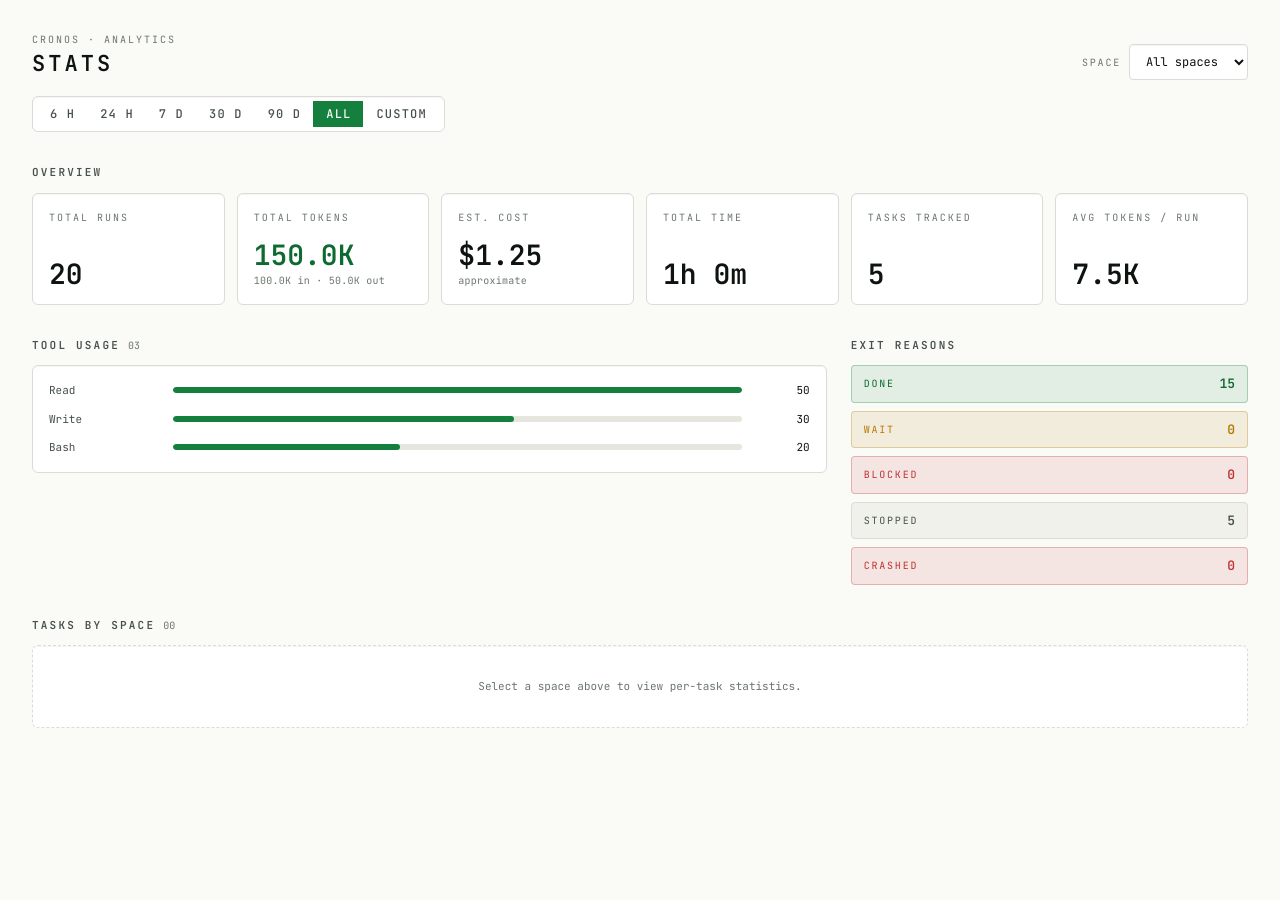
Test: StatsPage › shows empty-state message when space has no task stats
Select "My Space" in the dropdown at (1188,62), box [1129, 44, 1248, 80]
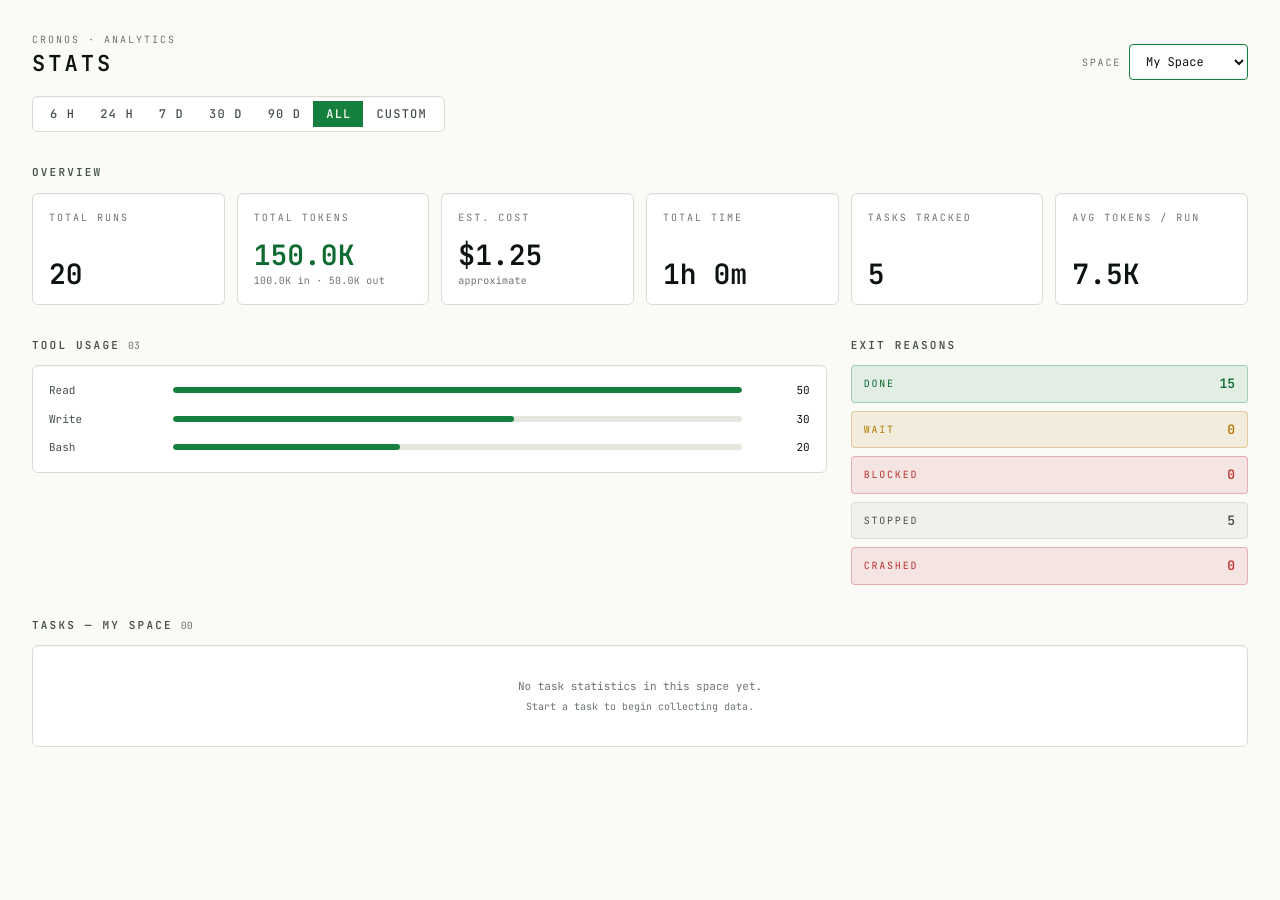
Expected: the text "No task statistics in this space yet." is shown, [518, 679, 762, 693]
